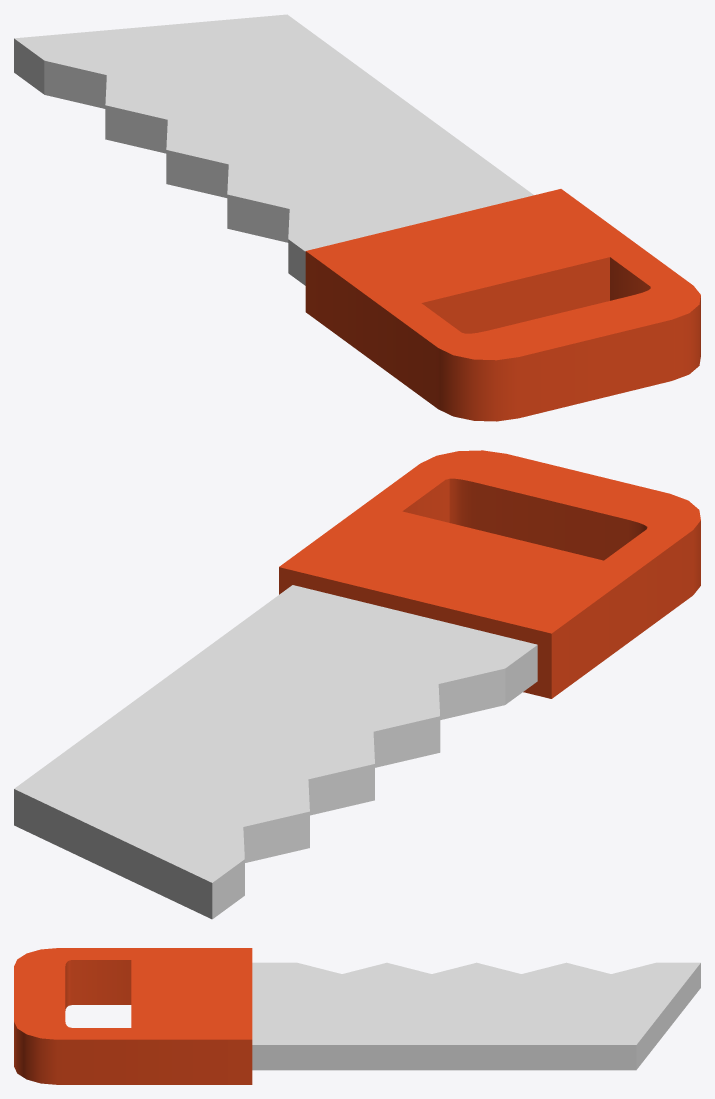
The model's file is Saw.fbx.
The picture shows the model from 3 angles, top to bottom: view 1: azimuth 30°, elevation 25°; view 2: azimuth 150°, elevation 25°; view 3: azimuth 270°, elevation 25°; orthographic projection. The views are drawn at different scales.
Visible parts, largest first — view 1: Saw; view 2: Saw; view 3: Saw.
Boxes of the visible parts, <box> form: Saw: <box>14,14,700,421</box>; Saw: <box>14,450,700,919</box>; Saw: <box>14,948,700,1084</box>.
Size of the model in its own units: 7.67 by 1.76 by 24.26.
Materials: 1 (1 with a texture image).
